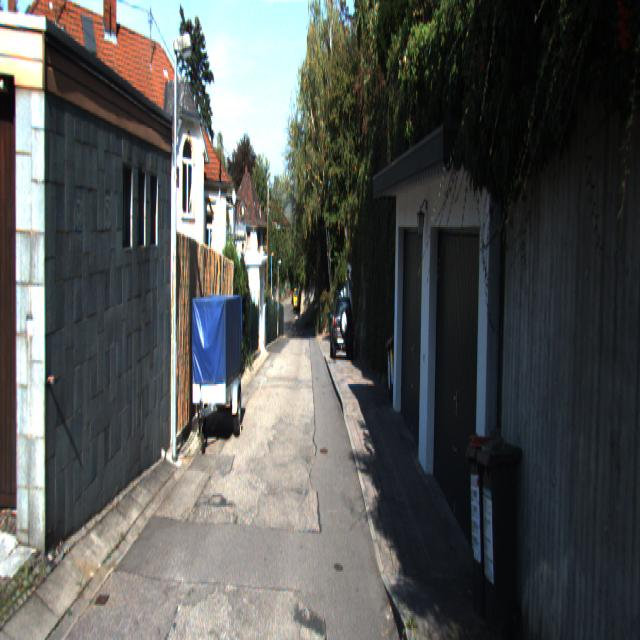Car: (329, 296, 355, 362)
DontCare: (291, 283, 299, 311)
Misc: (191, 293, 243, 452)
